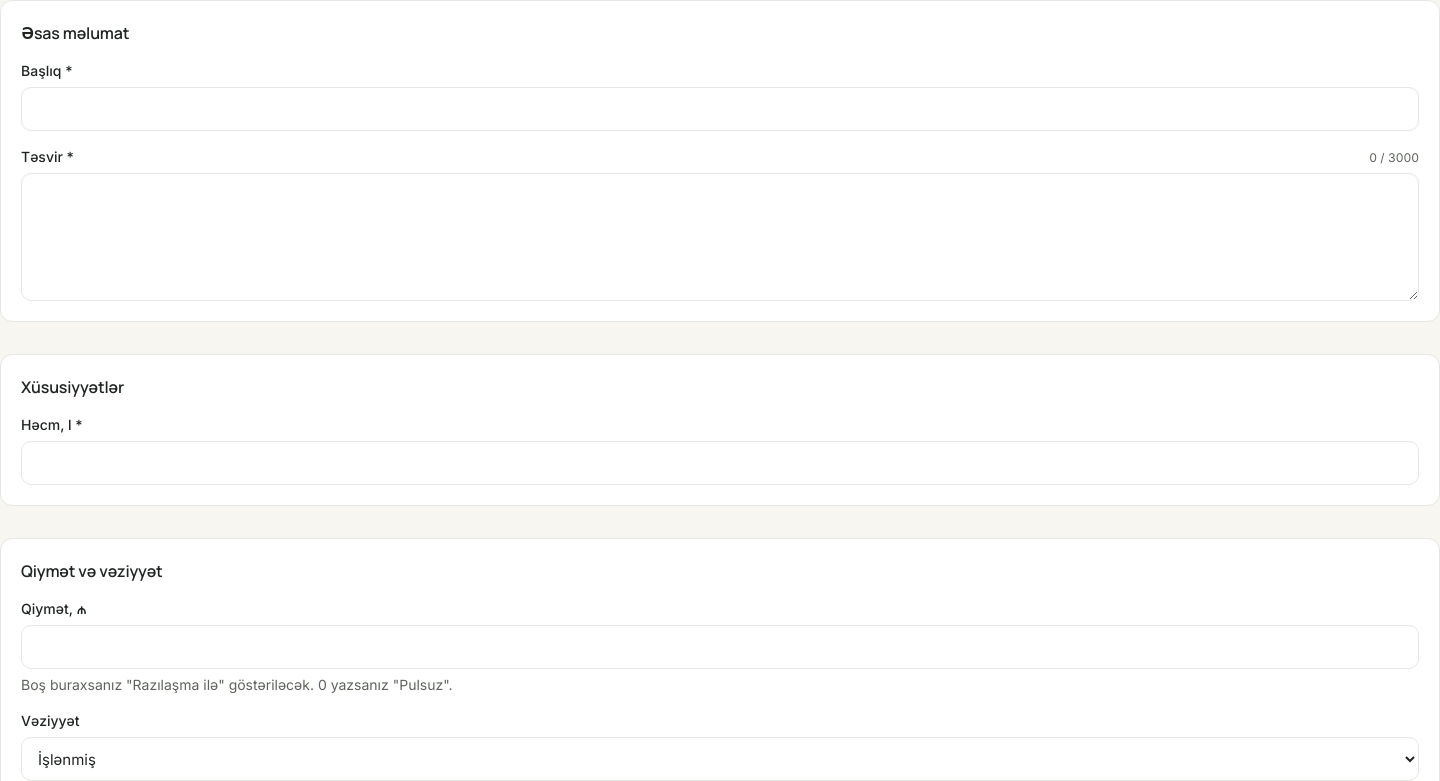
Test: ListingForm › refuses to publish a listing that has no image
# The browser's own required-field check has to pass first, or the form never submits.
Step 1. Type "Ov bel çantası 30L" into the field labelled "Başlıq *" → {"x": 720, "y": 109}, box top-left (21, 87), bottom-right (1419, 131)
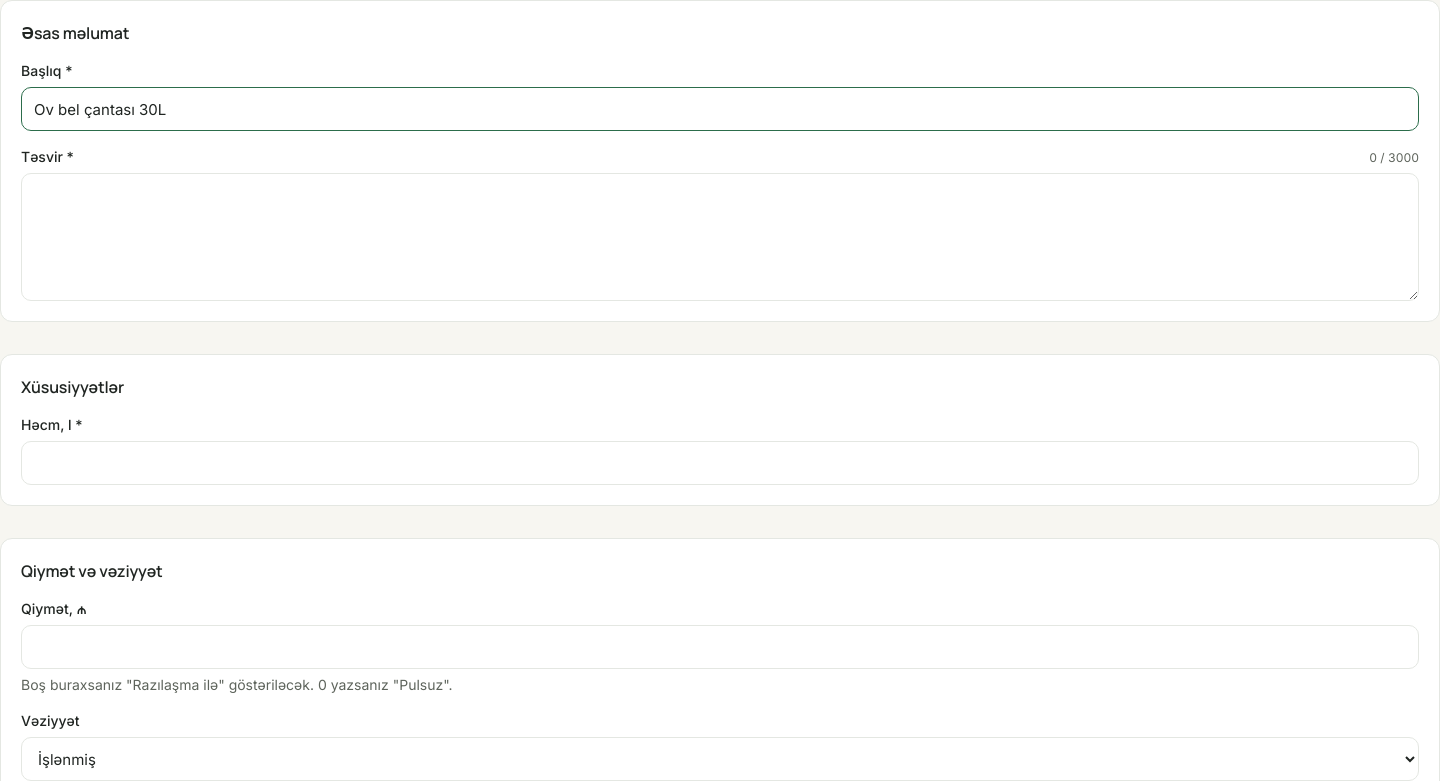
Step 2. Type "Az istifadə olunub." into the text box labelled "Təsvir *" → {"x": 720, "y": 237}, box top-left (21, 173), bottom-right (1419, 301)
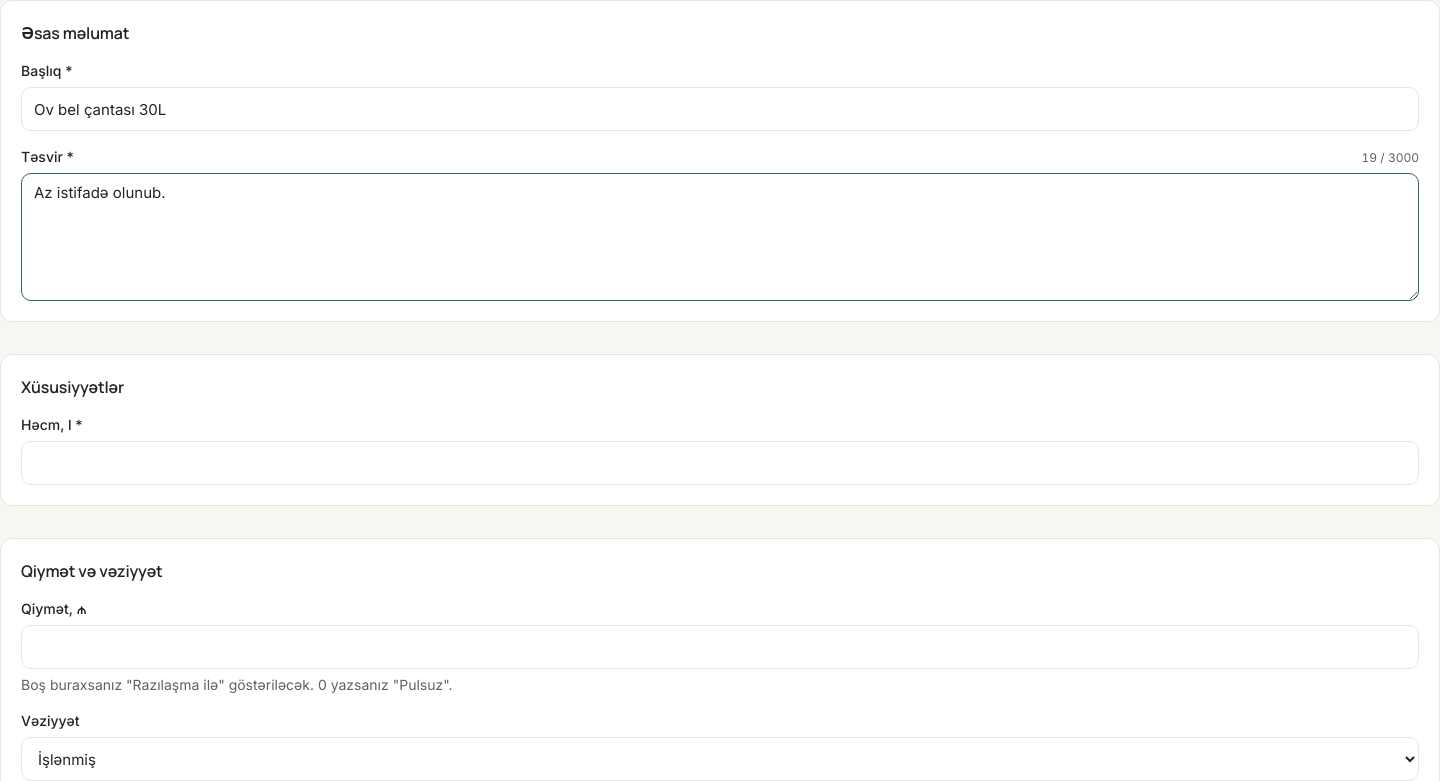
Step 3. Type "30" into the number field labelled "Həcm, l *" → {"x": 720, "y": 463}, box top-left (21, 441), bottom-right (1419, 485)
(page scrolled)
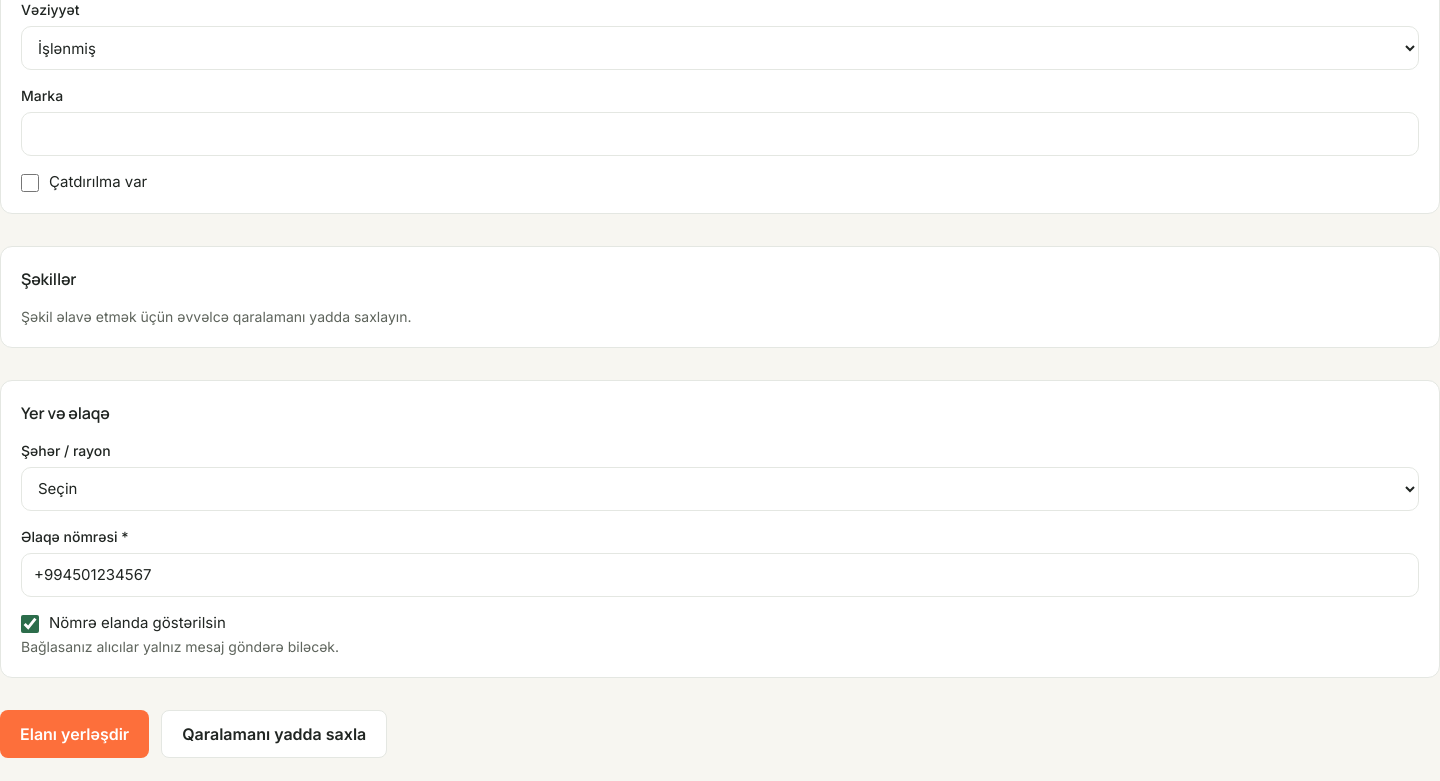
Step 4. Select "Bakı" in the dropdown labelled "Şəhər / rayon" → {"x": 720, "y": 489}, box top-left (21, 467), bottom-right (1419, 511)
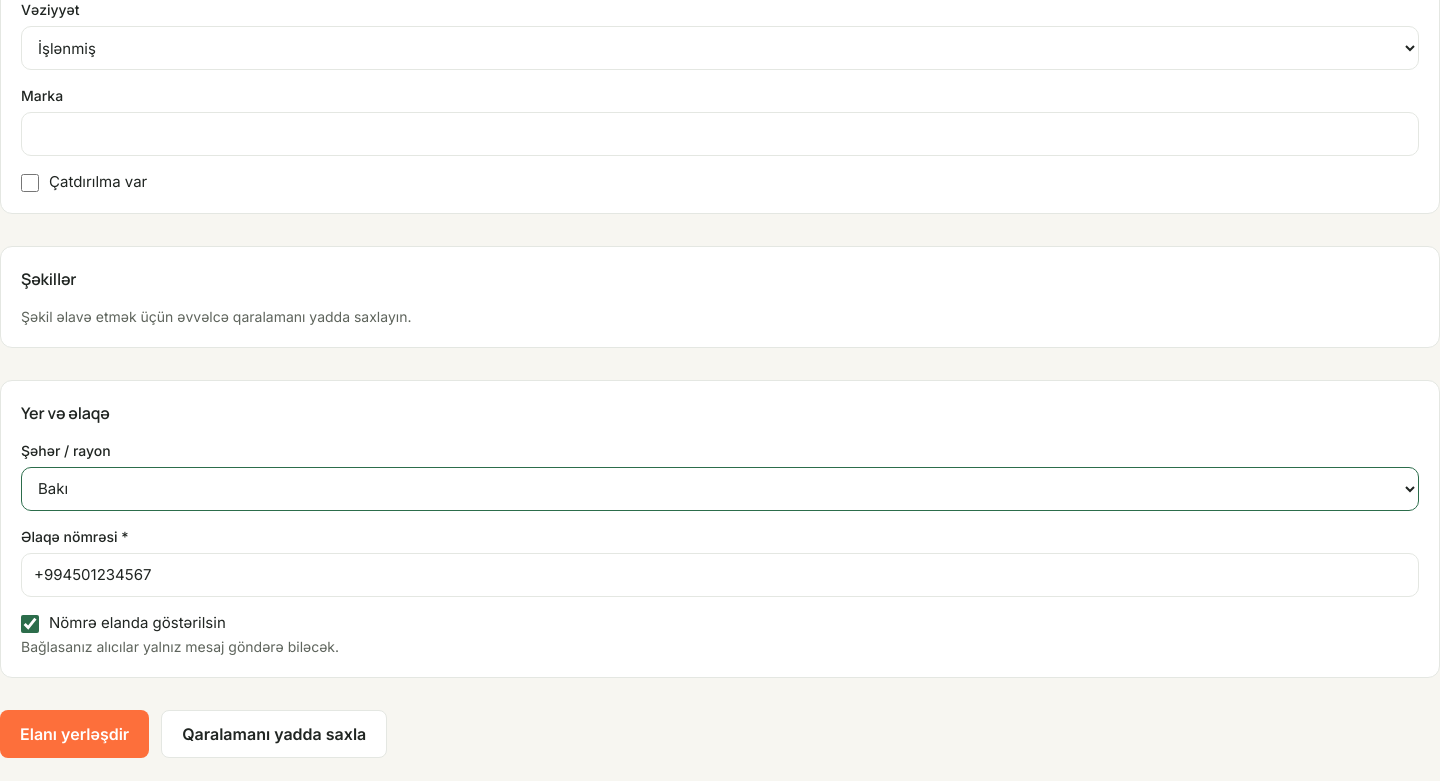
Step 5. Click the button "Elanı yerləşdir" → {"x": 75, "y": 734}, box top-left (0, 710), bottom-right (149, 758)
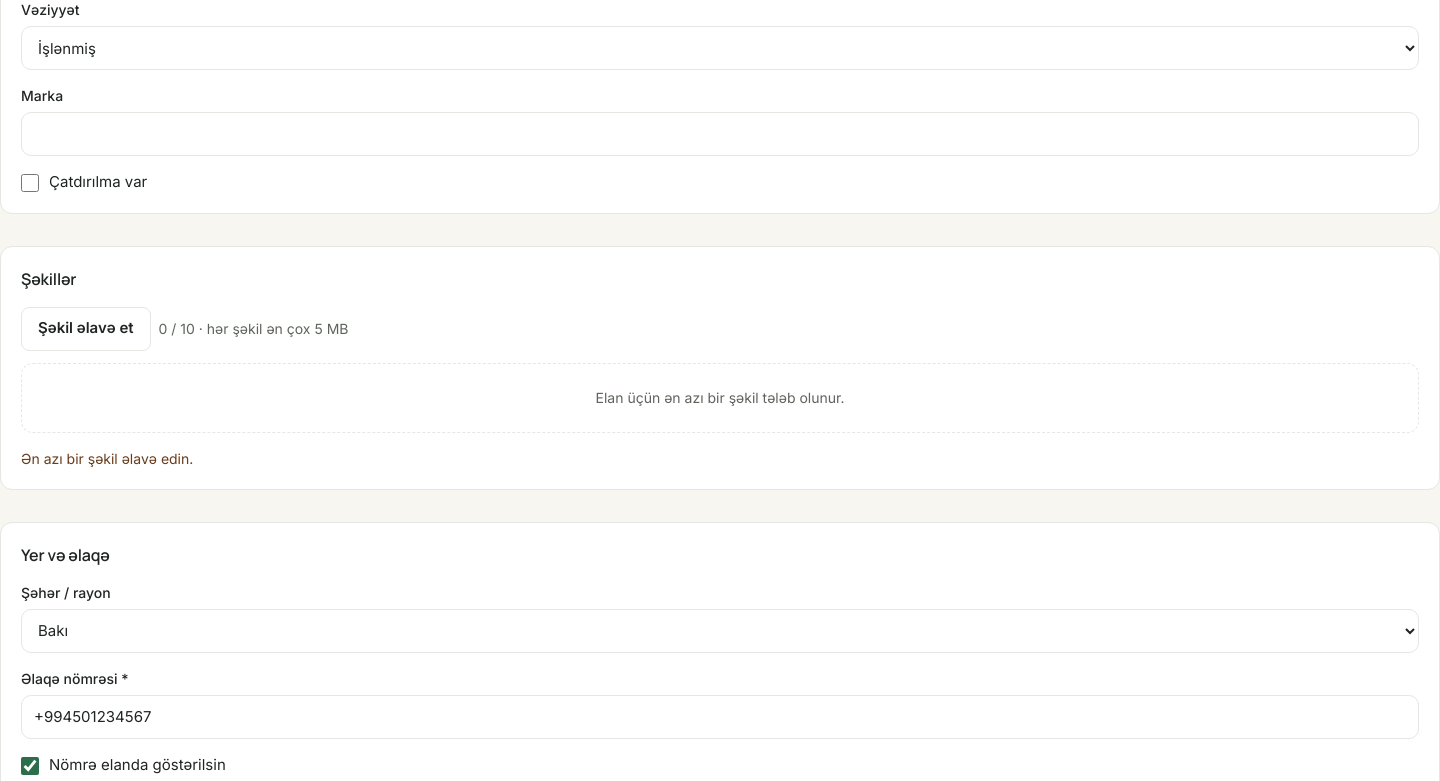
Expected: the text "Ən azı bir şəkil əlavə edin." is shown, top-left (21, 450), bottom-right (193, 467)
